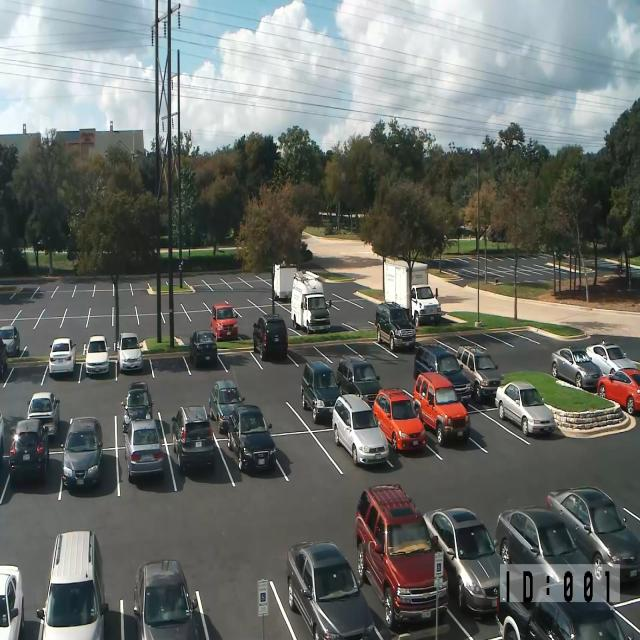car: (355, 483, 449, 630), (495, 506, 606, 605), (546, 485, 640, 584), (286, 540, 376, 640), (423, 507, 504, 615), (36, 530, 109, 639), (133, 559, 210, 639), (414, 371, 471, 446), (526, 599, 629, 640), (332, 393, 388, 466), (413, 342, 472, 403), (494, 380, 556, 437), (372, 388, 426, 452), (227, 404, 276, 472), (60, 416, 103, 489), (171, 405, 215, 473), (456, 345, 503, 403), (300, 360, 342, 424), (123, 417, 164, 482), (8, 418, 49, 482), (550, 346, 604, 391), (337, 355, 382, 408), (596, 368, 640, 415), (375, 301, 416, 351), (208, 379, 245, 433), (586, 340, 638, 376), (0, 564, 24, 639), (121, 381, 154, 434), (252, 314, 288, 361), (26, 390, 60, 438), (410, 283, 441, 327), (610, 596, 640, 640), (115, 332, 144, 373), (83, 335, 110, 376), (210, 303, 238, 342), (189, 330, 217, 368), (49, 337, 76, 376), (0, 324, 20, 356), (0, 337, 7, 377), (0, 409, 4, 466), (300, 238, 308, 252)
